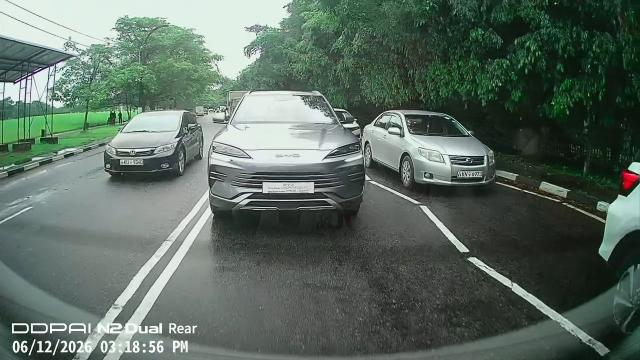illegal overtaking: (106, 97, 203, 187)
number plate: (116, 152, 149, 168)
